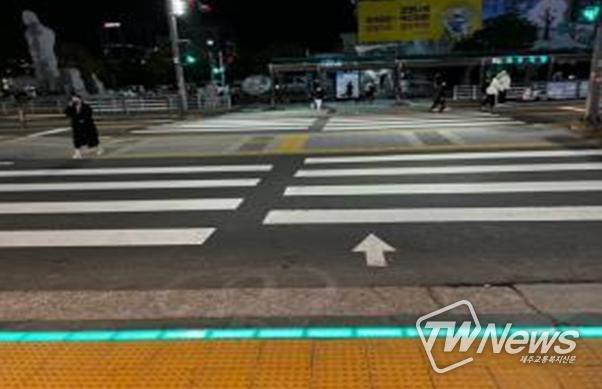crosswalk: (0, 154, 602, 297), (134, 114, 536, 133)
